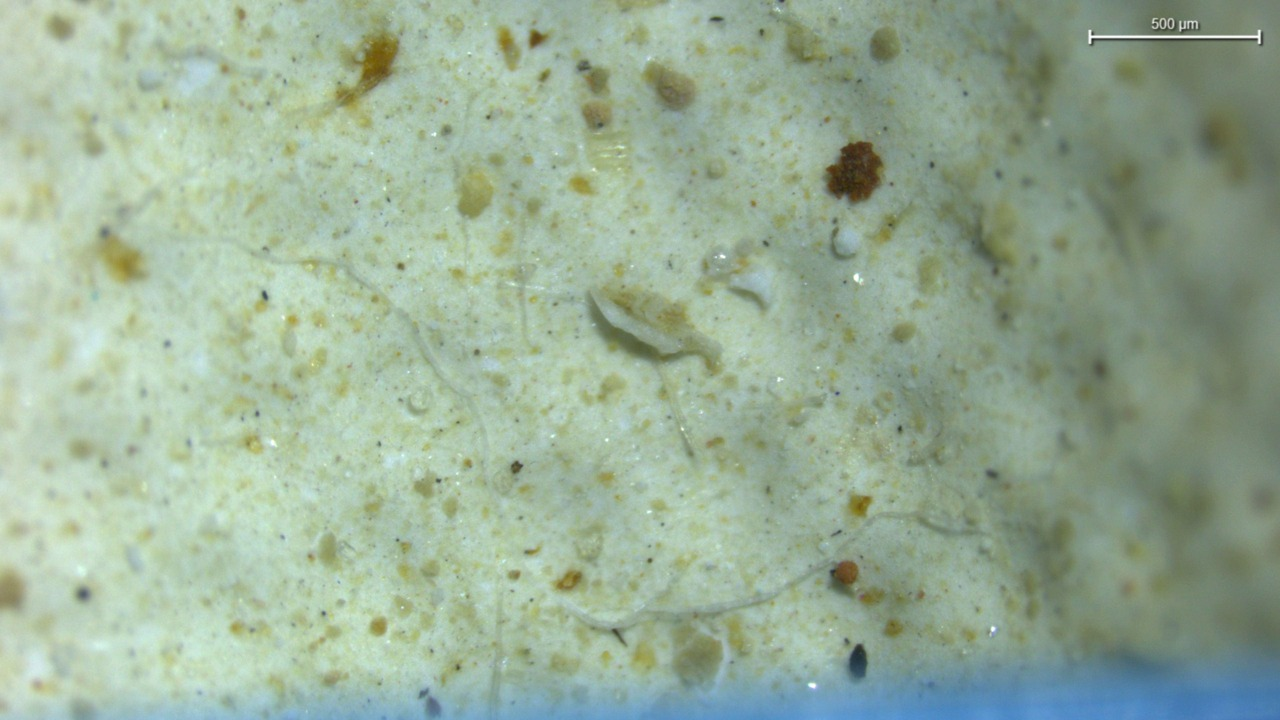microplastic_fragment: (590, 288, 721, 365), (728, 268, 773, 309), (832, 227, 861, 257)
